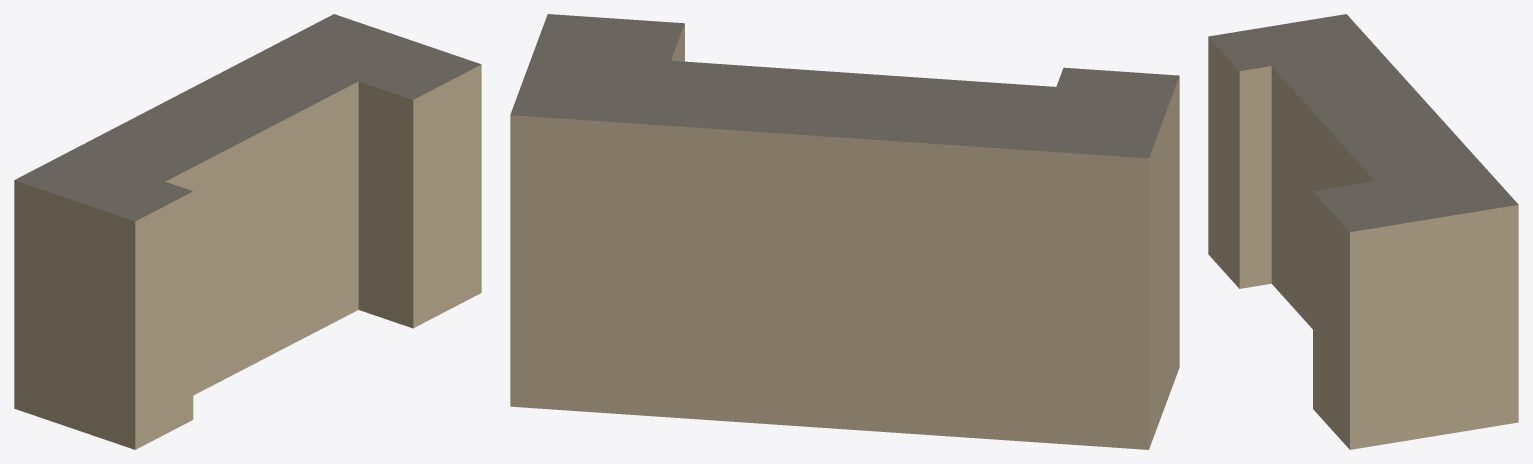
3 renders of one model, left to right at view 1: azimuth 30°, elevation 25°; view 2: azimuth 150°, elevation 25°; view 3: azimuth 270°, elevation 25°, orthographic. The views are drawn at different scales.
Visible parts, largest first — view 1: HP-w1211773991; view 2: HP-w1211773991; view 3: HP-w1211773991.
Part boxes in pixels (x1,y1,x2,y2): HP-w1211773991: [14, 14, 481, 449]; HP-w1211773991: [510, 14, 1179, 449]; HP-w1211773991: [1208, 14, 1518, 449].
Size of the model in its own units: 42.57 by 19.8 by 25.6.
